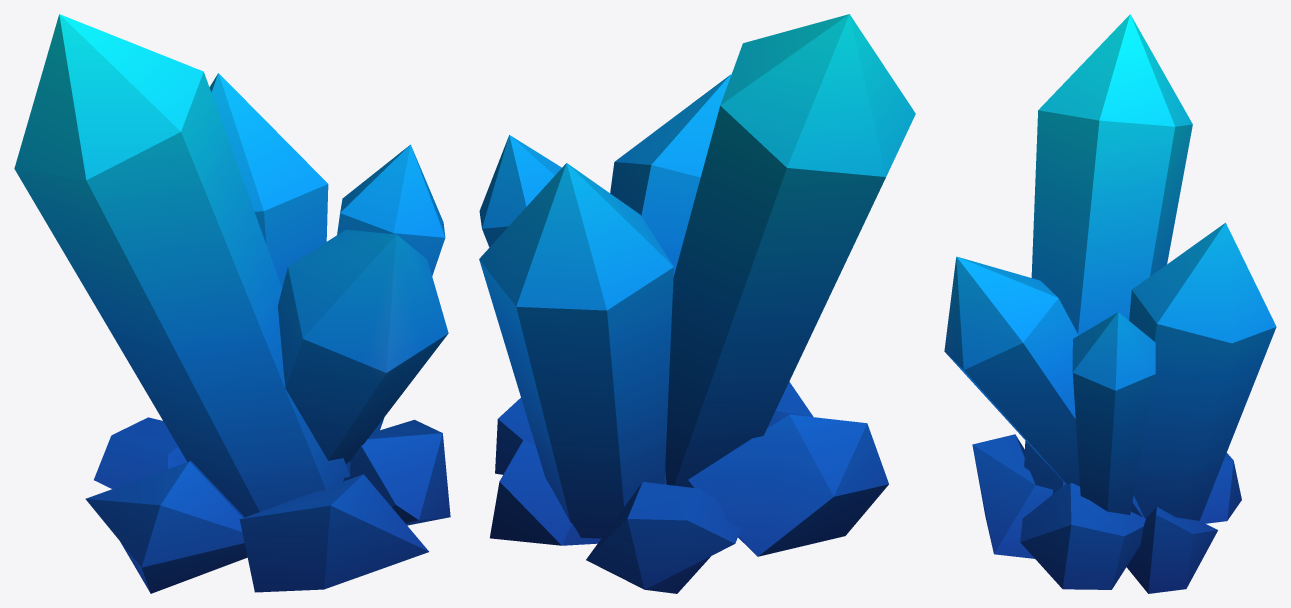
Rendered from M_Diamond.fbx.
The picture shows the model from 3 angles, left to right: view 1: azimuth 30°, elevation 25°; view 2: azimuth 150°, elevation 25°; view 3: azimuth 270°, elevation 25°; orthographic projection. The views are drawn at different scales.
Parts seen in each view (by area): view 1: M_diamond; view 2: M_diamond; view 3: M_diamond.
Part boxes in pixels (x1,y1,x2,y2): M_diamond: [14, 14, 450, 593]; M_diamond: [479, 14, 915, 593]; M_diamond: [944, 14, 1276, 593].
Bounding box in the file's own units: 110 × 147 × 95.87.
Materials: 1 (1 with a texture image).
